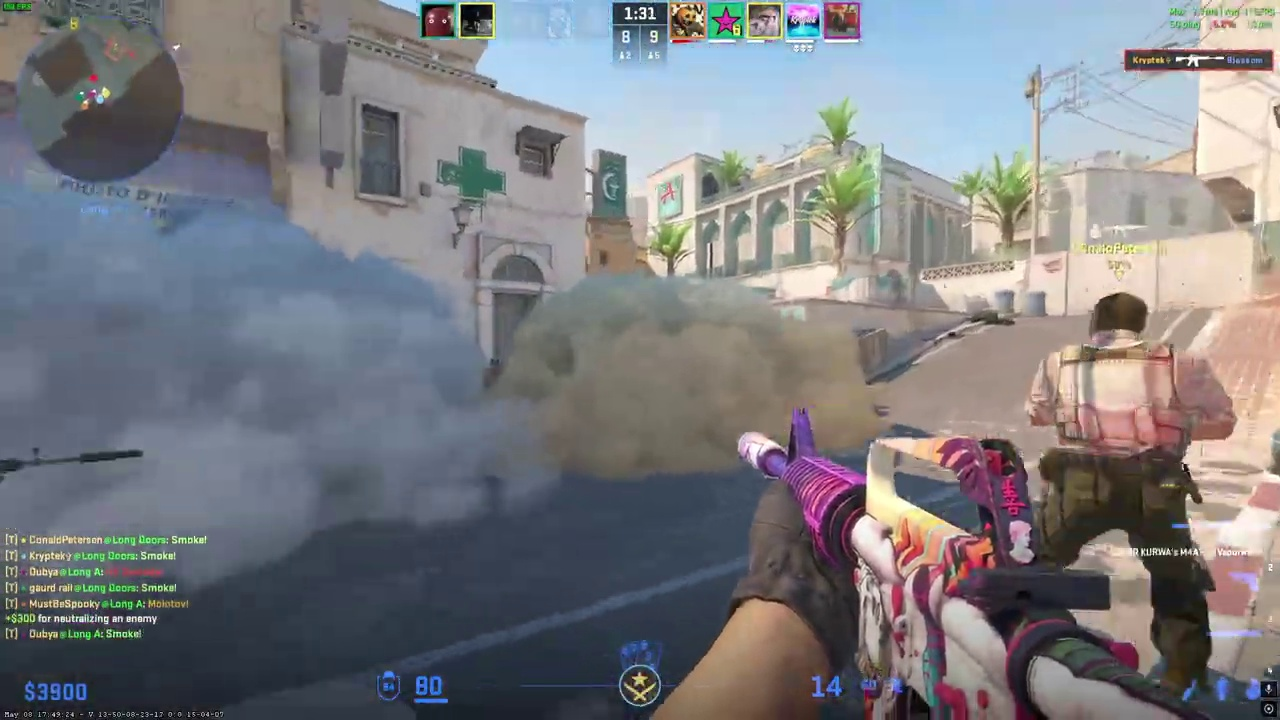Terrorist: (1026, 292, 1227, 712)
